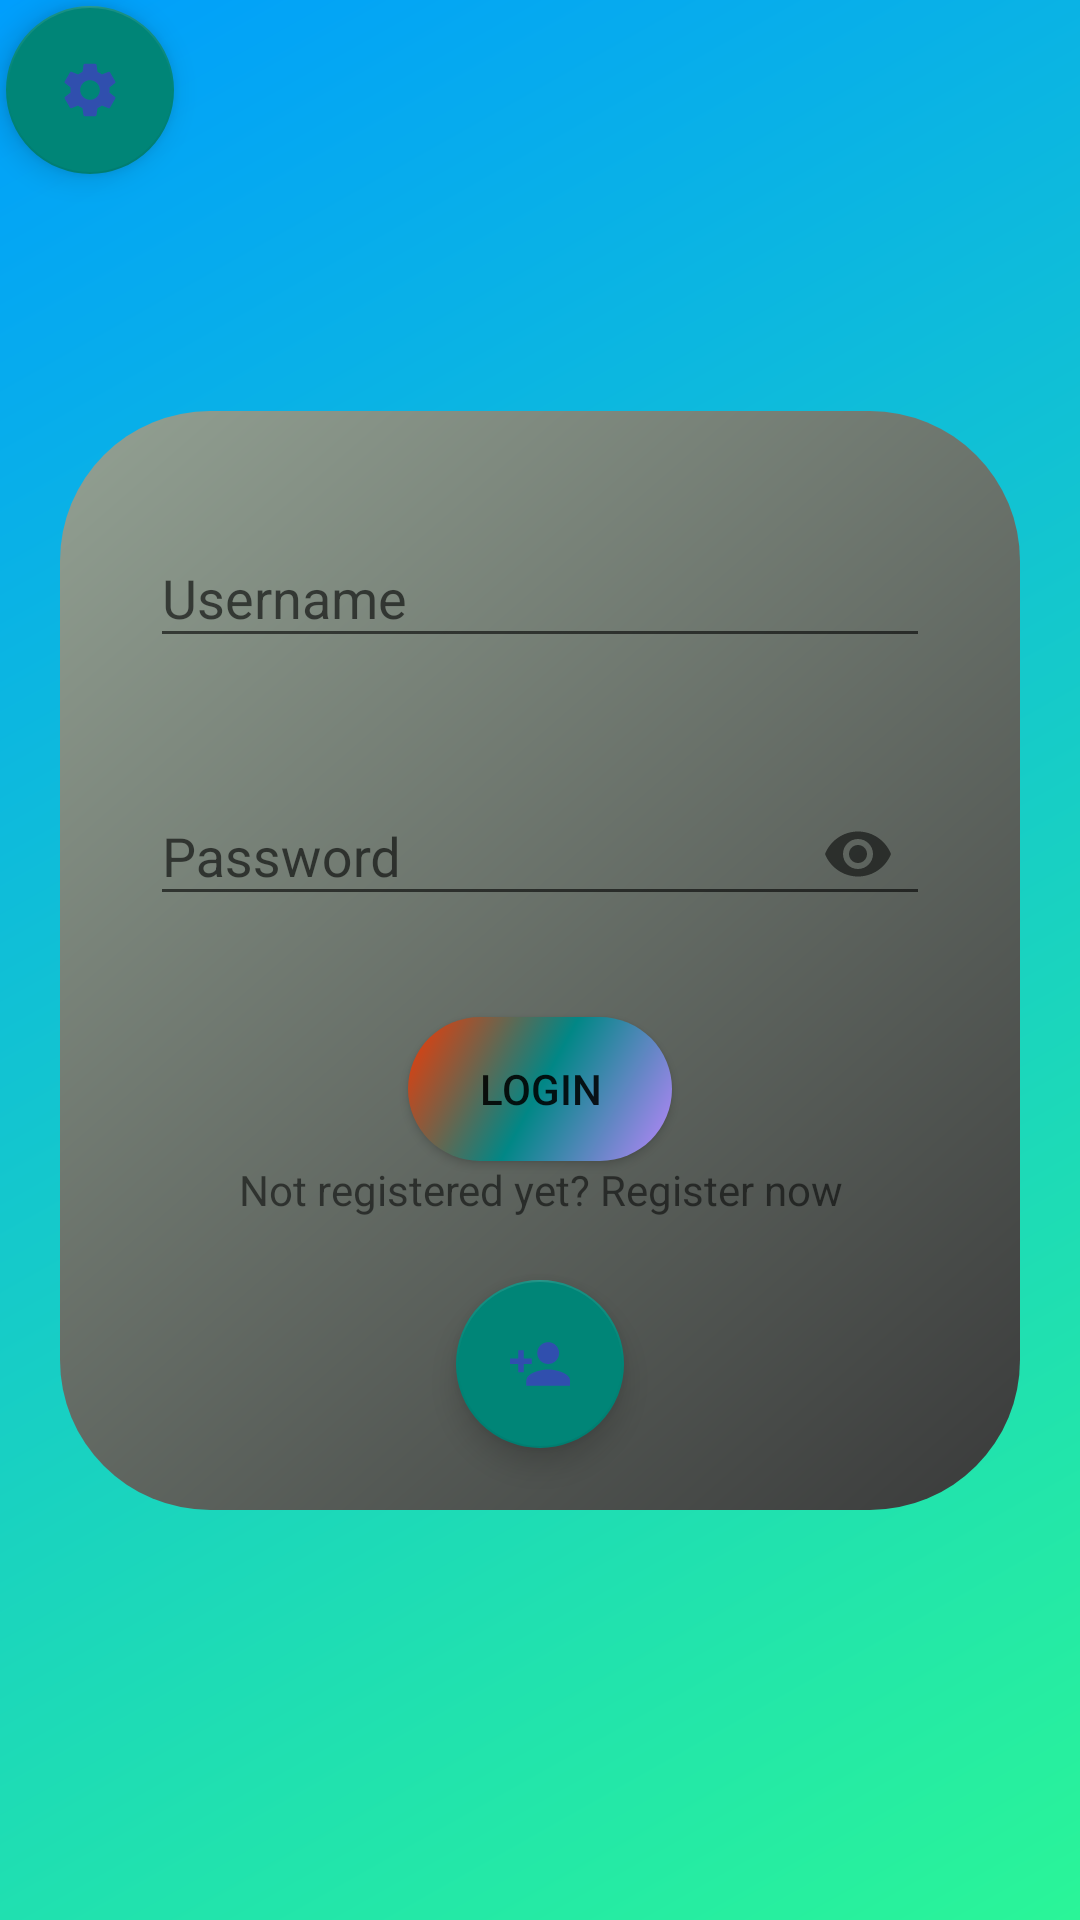

Icons on this 1080px×1920px Android screen, each with the point to tap as point (x, y):
Settings: point (90, 90)
